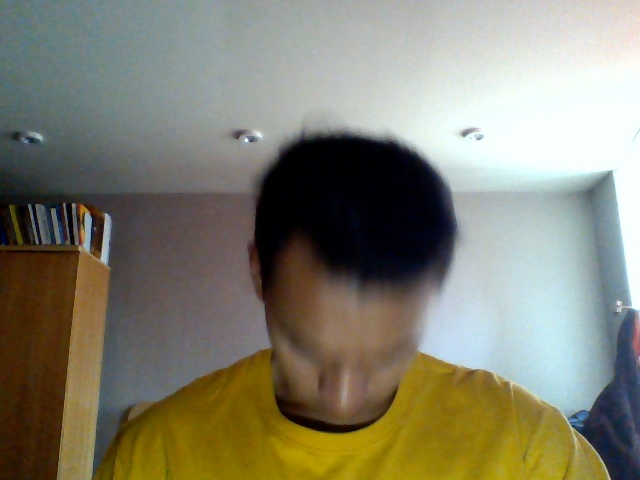no_mask: (281, 370, 407, 420)
